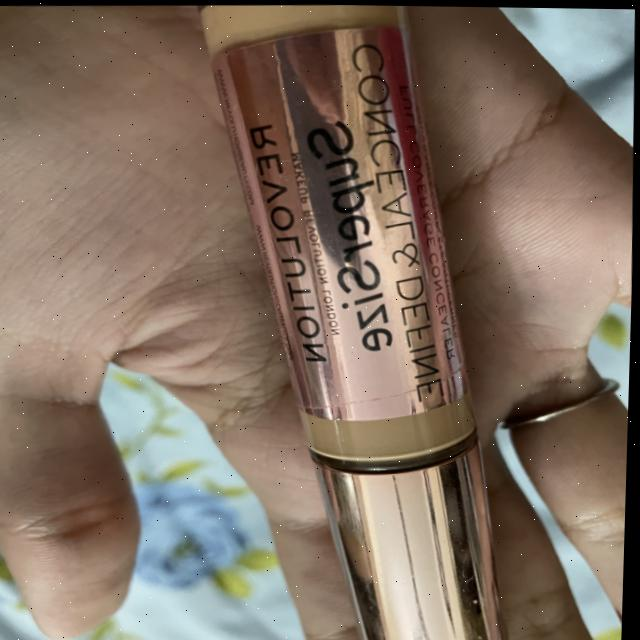concealer: (155, 2, 563, 640)
